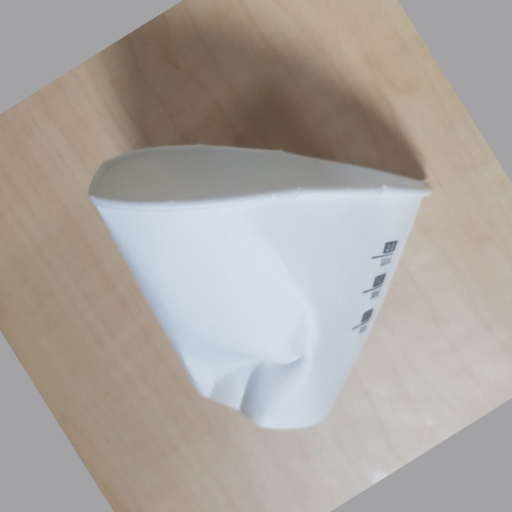Paper_1: (89, 142, 438, 433)
